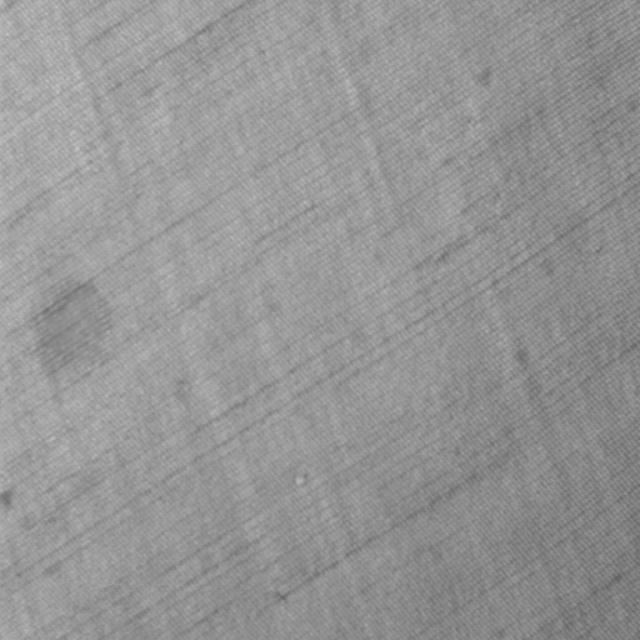oil spot: (27, 271, 116, 391)
